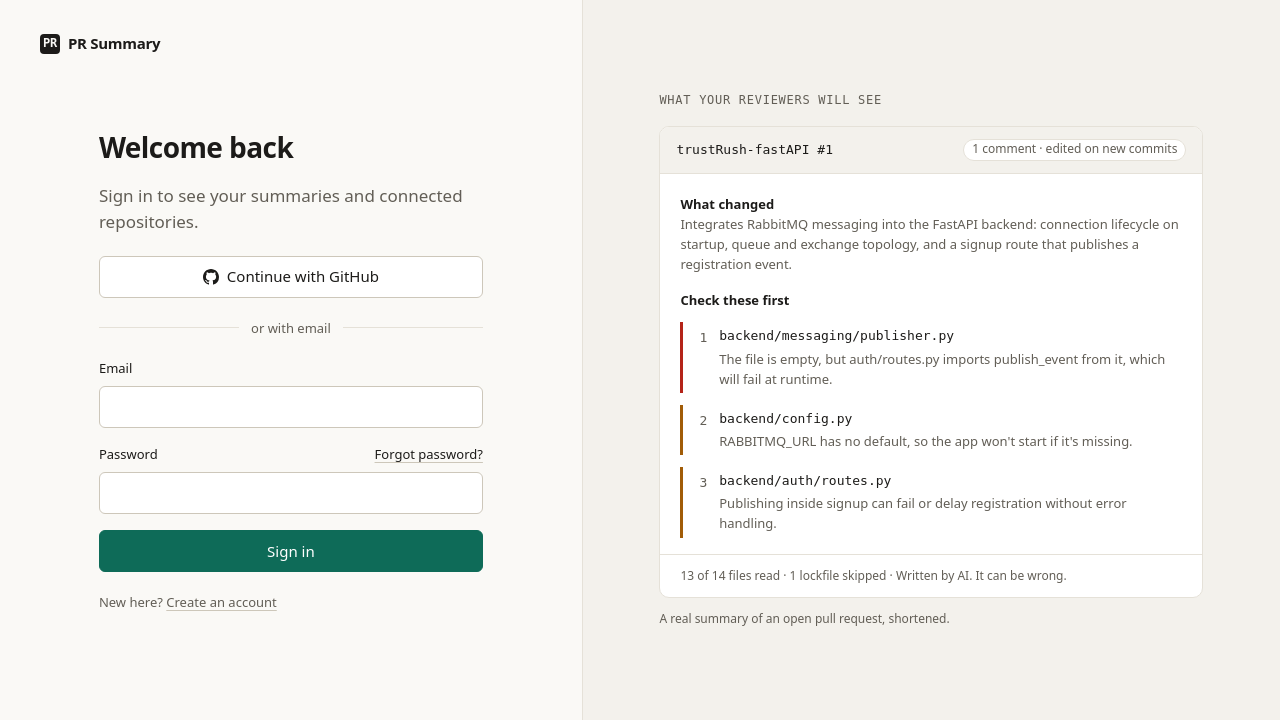
Test: Log in › shows a wrong-password message next to the field
Expected: the heading "Welcome back" is shown, [99, 128, 293, 166]
In the field labelled "Email": (291, 407) [99, 386, 483, 428], type "ravi@example.com"
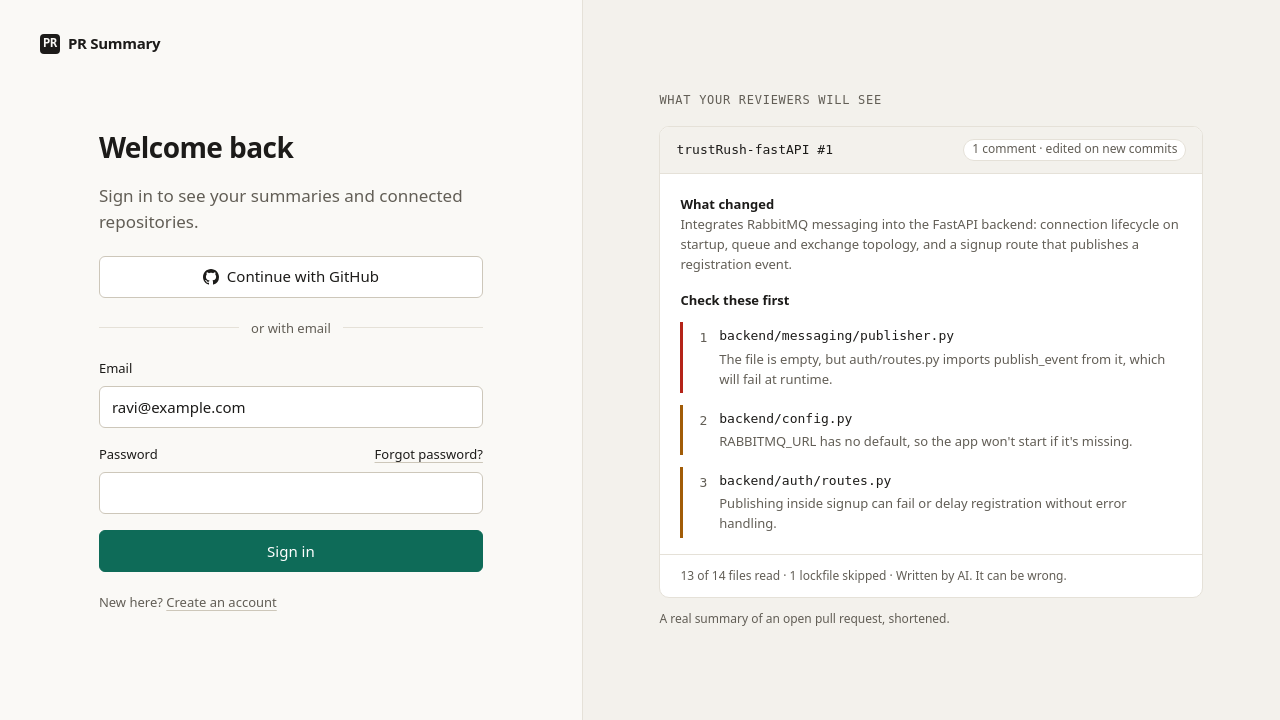
In the password field labelled "Password": (291, 493) [99, 472, 483, 514], type "nope nope nope"
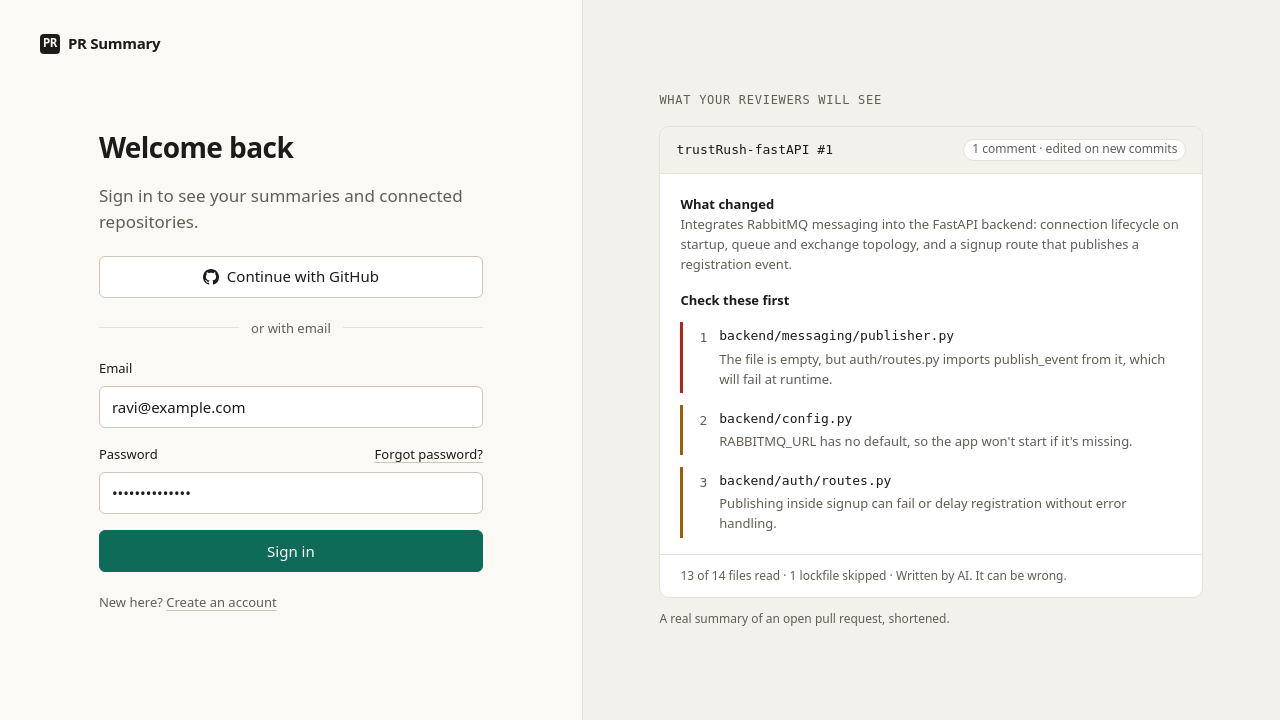
Click the button "Sign in": (291, 551) [99, 530, 483, 572]
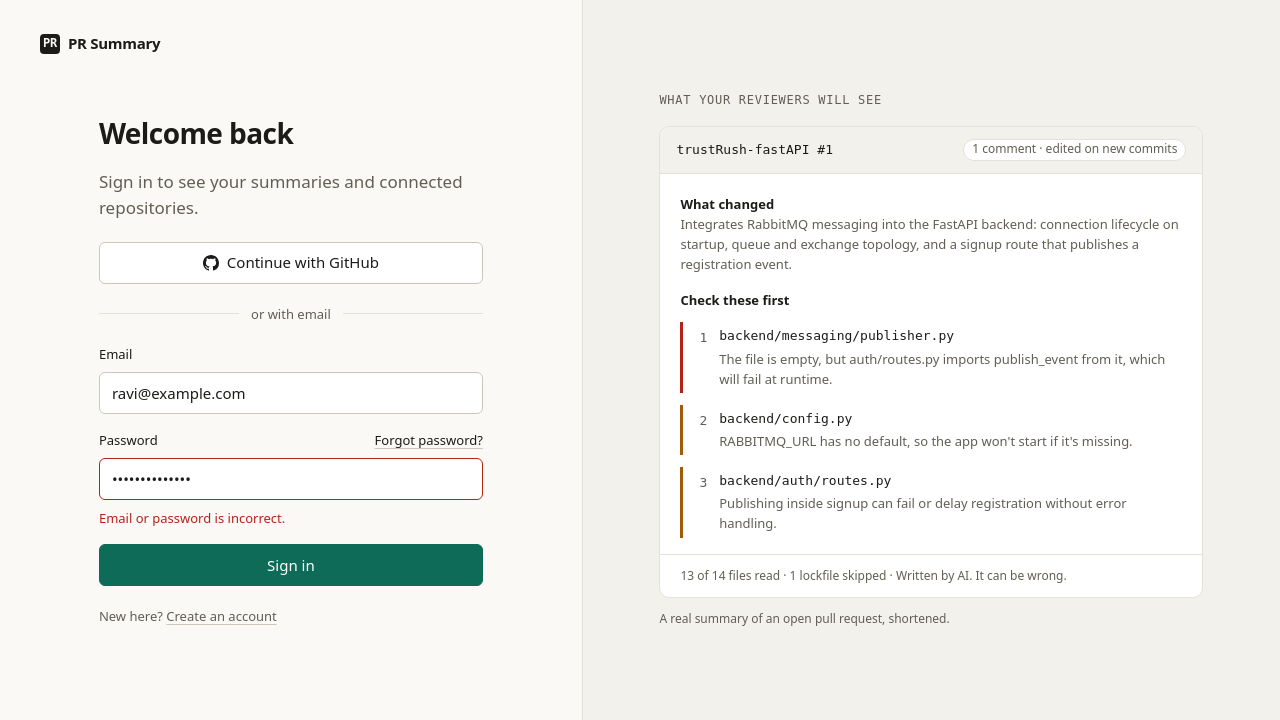
Result: the text "Email or password is incorrect." is shown at [99, 509, 285, 527]
